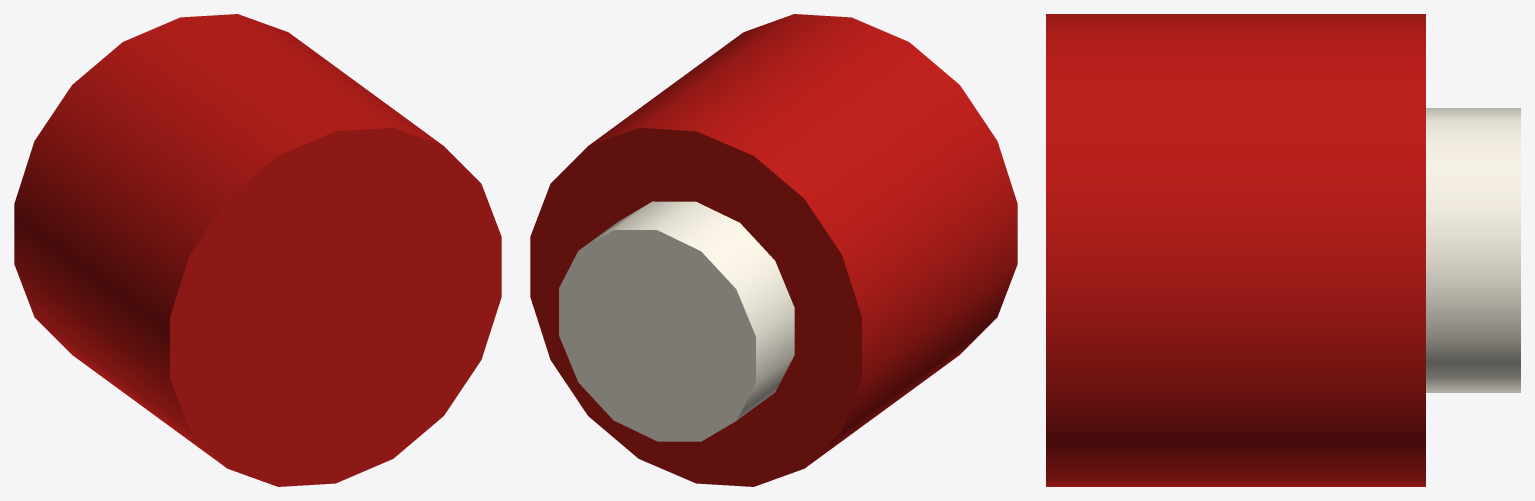
The model's file is services.device.sounder.glb.
The picture shows the model from 3 angles, left to right: view 1: azimuth 30°, elevation 25°; view 2: azimuth 150°, elevation 25°; view 3: azimuth 270°, elevation 25°; orthographic projection. The views are drawn at different scales.
Parts seen in each view (by area): view 1: main__plastic_red; view 2: main__plastic_red, main__light_emitter; view 3: main__plastic_red, main__light_emitter.
Part boxes in pixels (x1,y1,x2,y2): main__plastic_red: (14,14,501,486); main__plastic_red: (530,14,1017,486); main__light_emitter: (559,201,794,441); main__plastic_red: (1046,14,1425,486); main__light_emitter: (1426,108,1520,392).
Size of the model in its own units: 0.0985 by 0.1 by 0.1.
